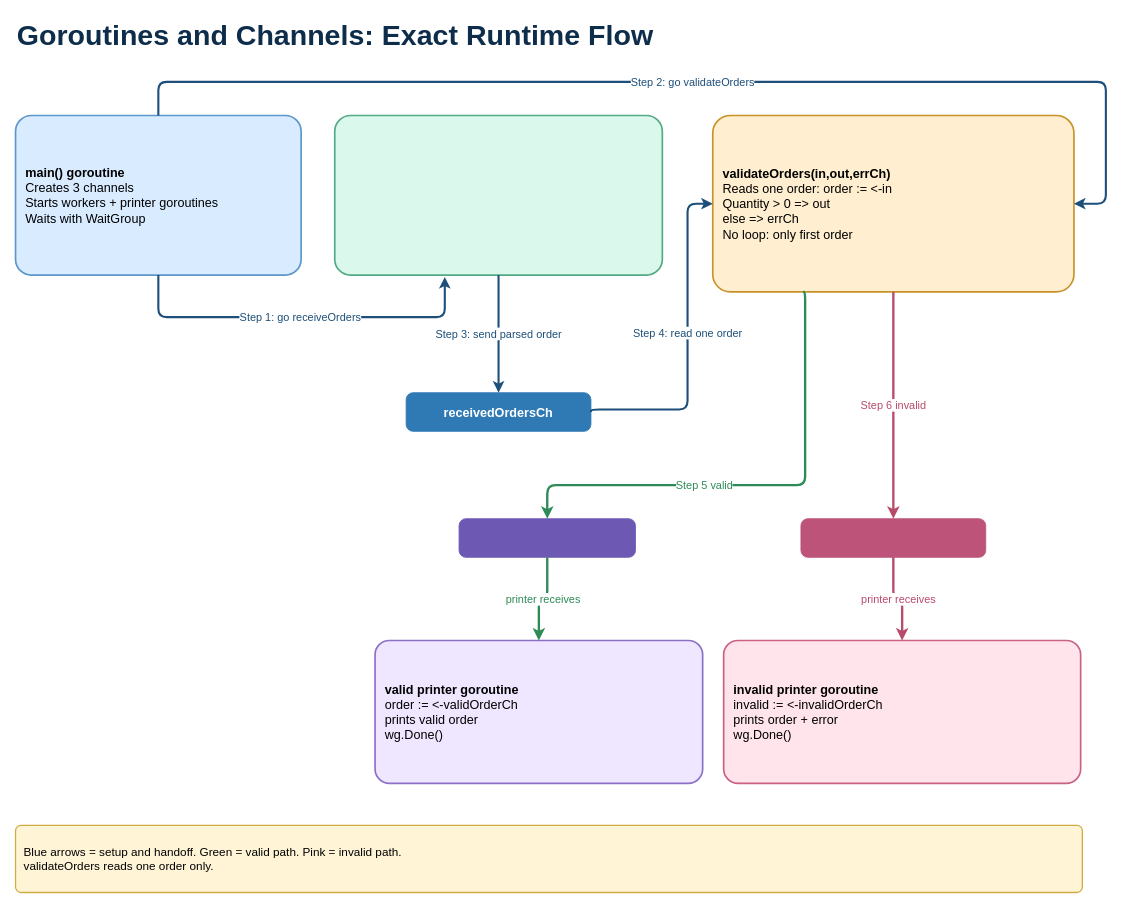
The diagram is 1128 pixels wide and 907 high, and some of its shapes have lost their labels. Here are the shapes that lost their labels. From the top down, the box of each, then its label:
(333, 114, 663, 276): receiveOrders(out) Loop rawOrders json.Unmarshal send valid parse to out
(458, 518, 635, 557): validOrderCh
(800, 518, 986, 557): invalidOrderCh
